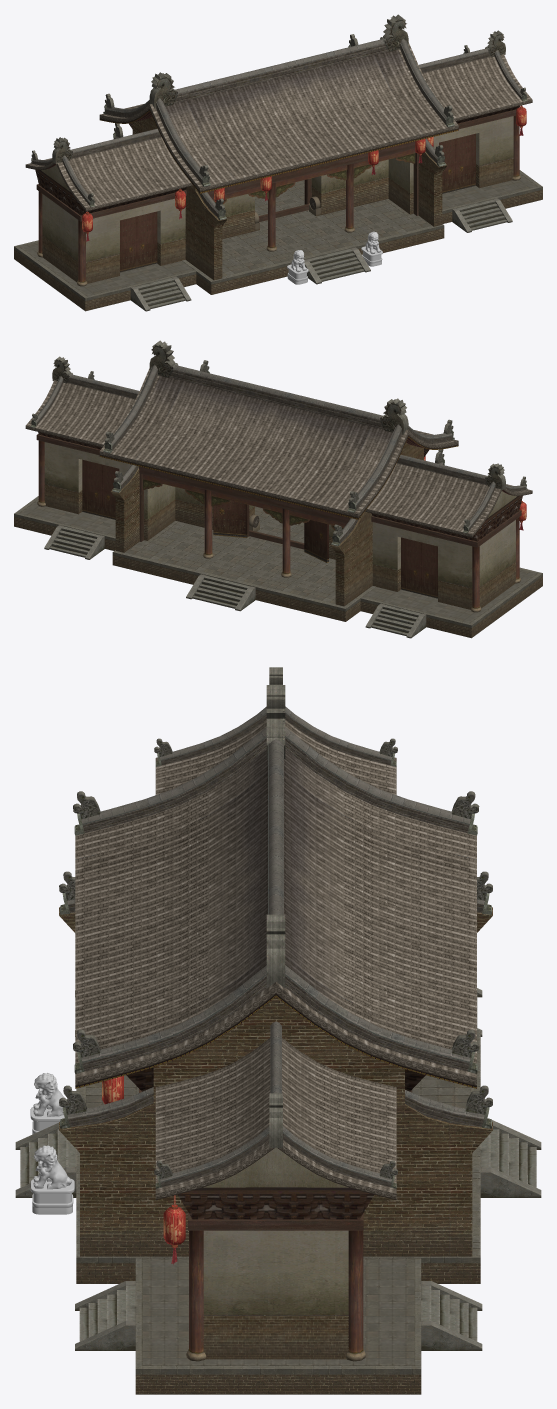
Rendered from ZhiFuDaMen.fbx.
3 views of the same model, one above another, from view 1: azimuth 30°, elevation 25°; view 2: azimuth 150°, elevation 25°; view 3: azimuth 270°, elevation 25° (orthographic). The views are drawn at different scales.
Parts seen in each view (by area): view 1: ZhiFuDaMen; view 2: ZhiFuDaMen; view 3: ZhiFuDaMen.
Boxes of the visible parts, x1,y1,x2,y2 form: ZhiFuDaMen: (14,14,542,311); ZhiFuDaMen: (14,340,542,638); ZhiFuDaMen: (15,667,541,1394).
Size of the model in its own units: 3050 by 1177 by 1518.
